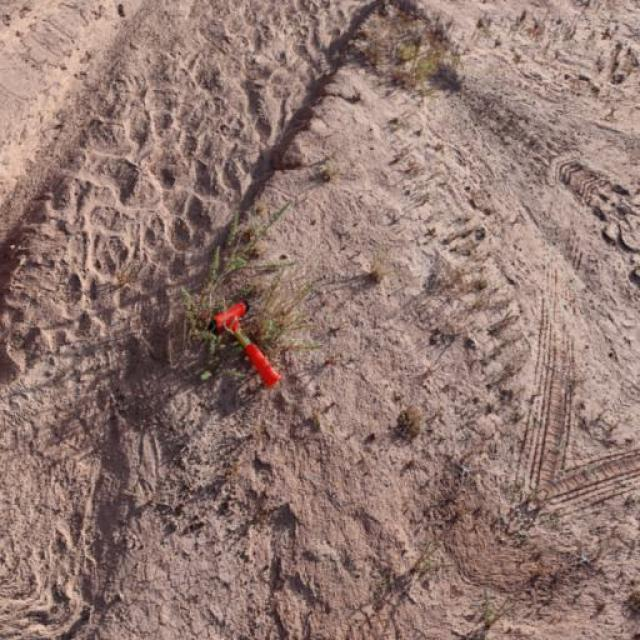mallet: (209, 298, 281, 388)
